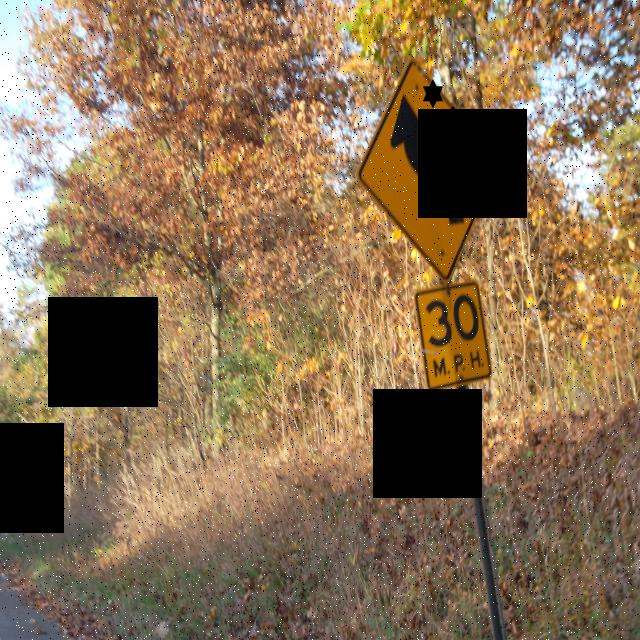warning: (354, 56, 498, 283), (414, 278, 495, 397)
